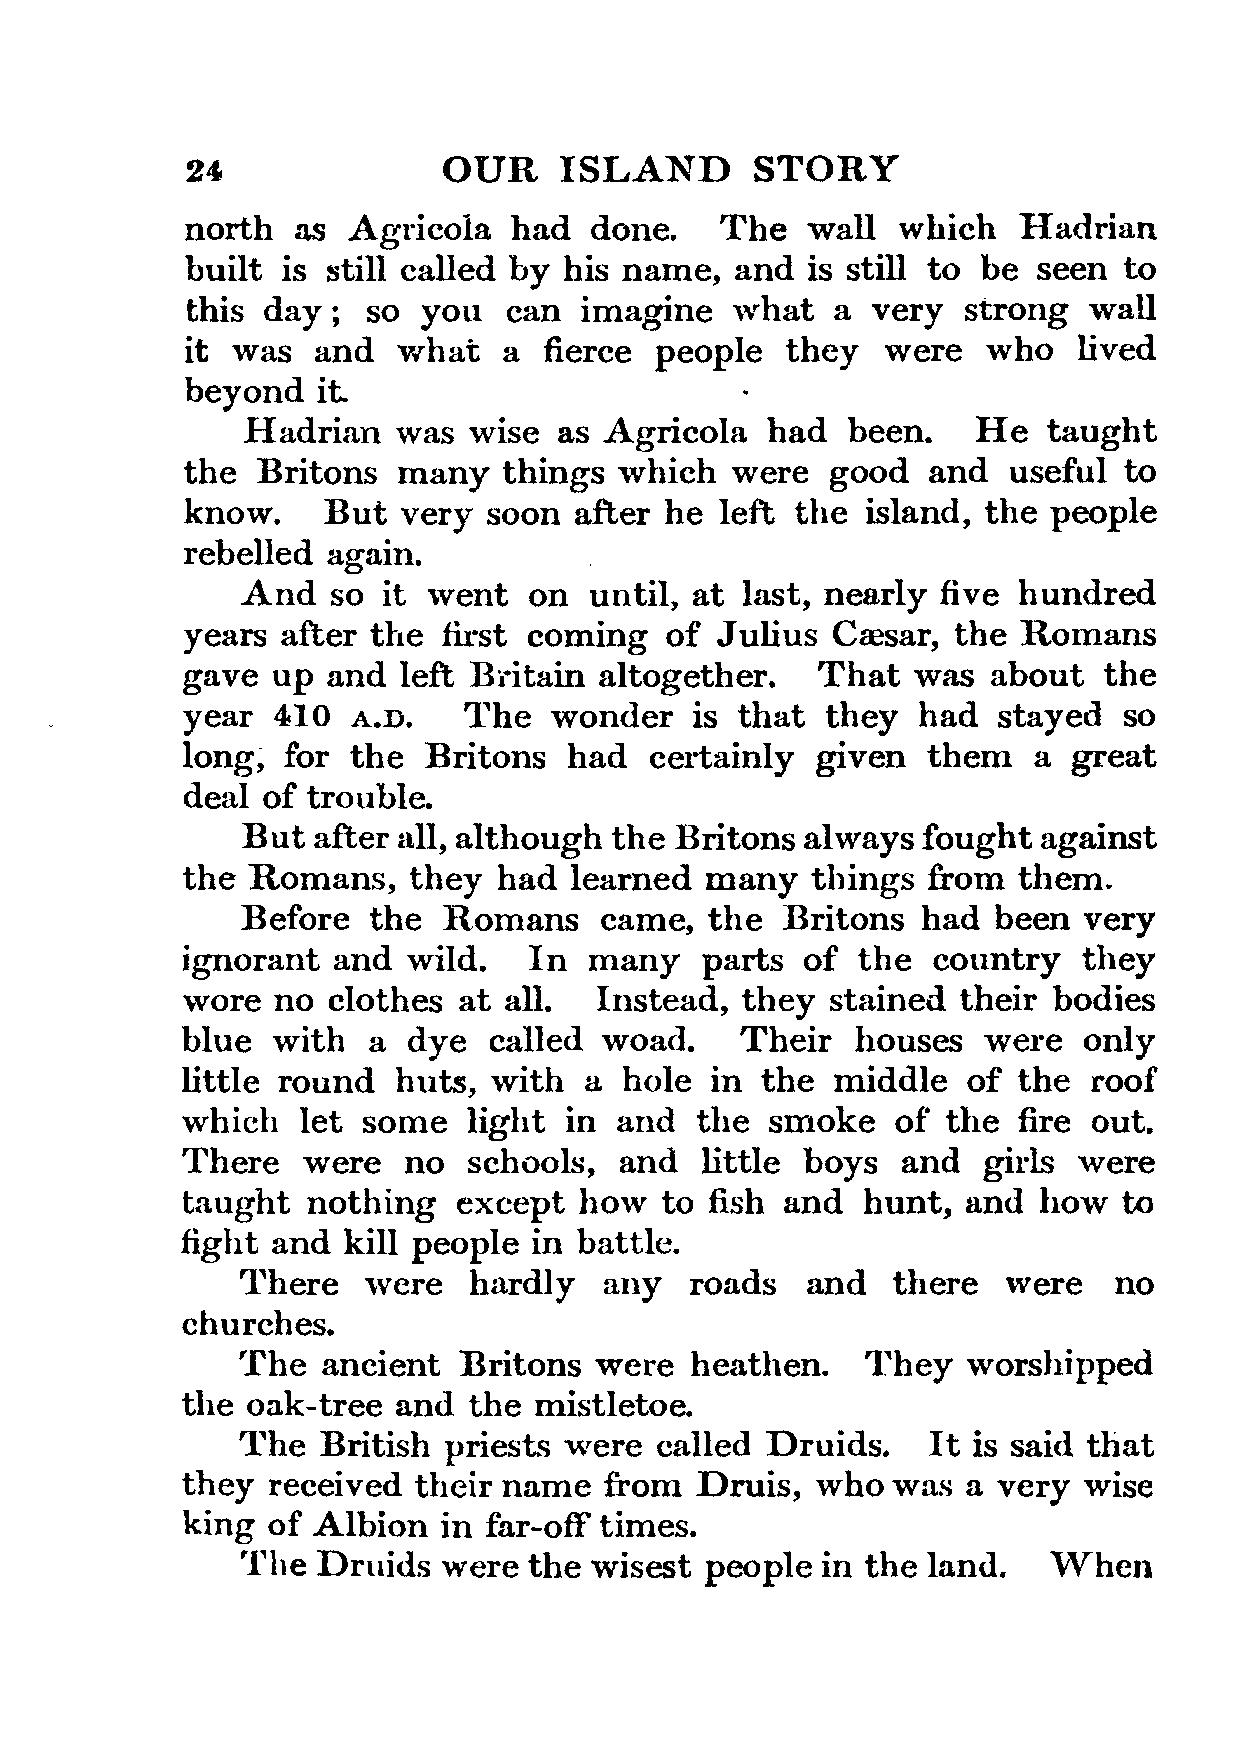content: (169, 209, 1168, 1589)
content_chapter: (436, 146, 900, 185)
content_pagenumber: (178, 148, 224, 185)
